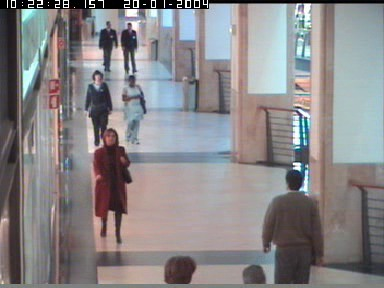person: (261, 170, 325, 284), (93, 128, 131, 241), (84, 70, 114, 146), (121, 75, 144, 145), (98, 20, 118, 71), (163, 255, 197, 284), (119, 21, 136, 72)
